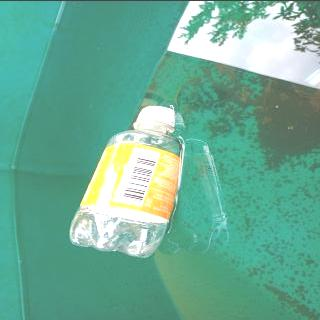bottle: (66, 104, 186, 258)
